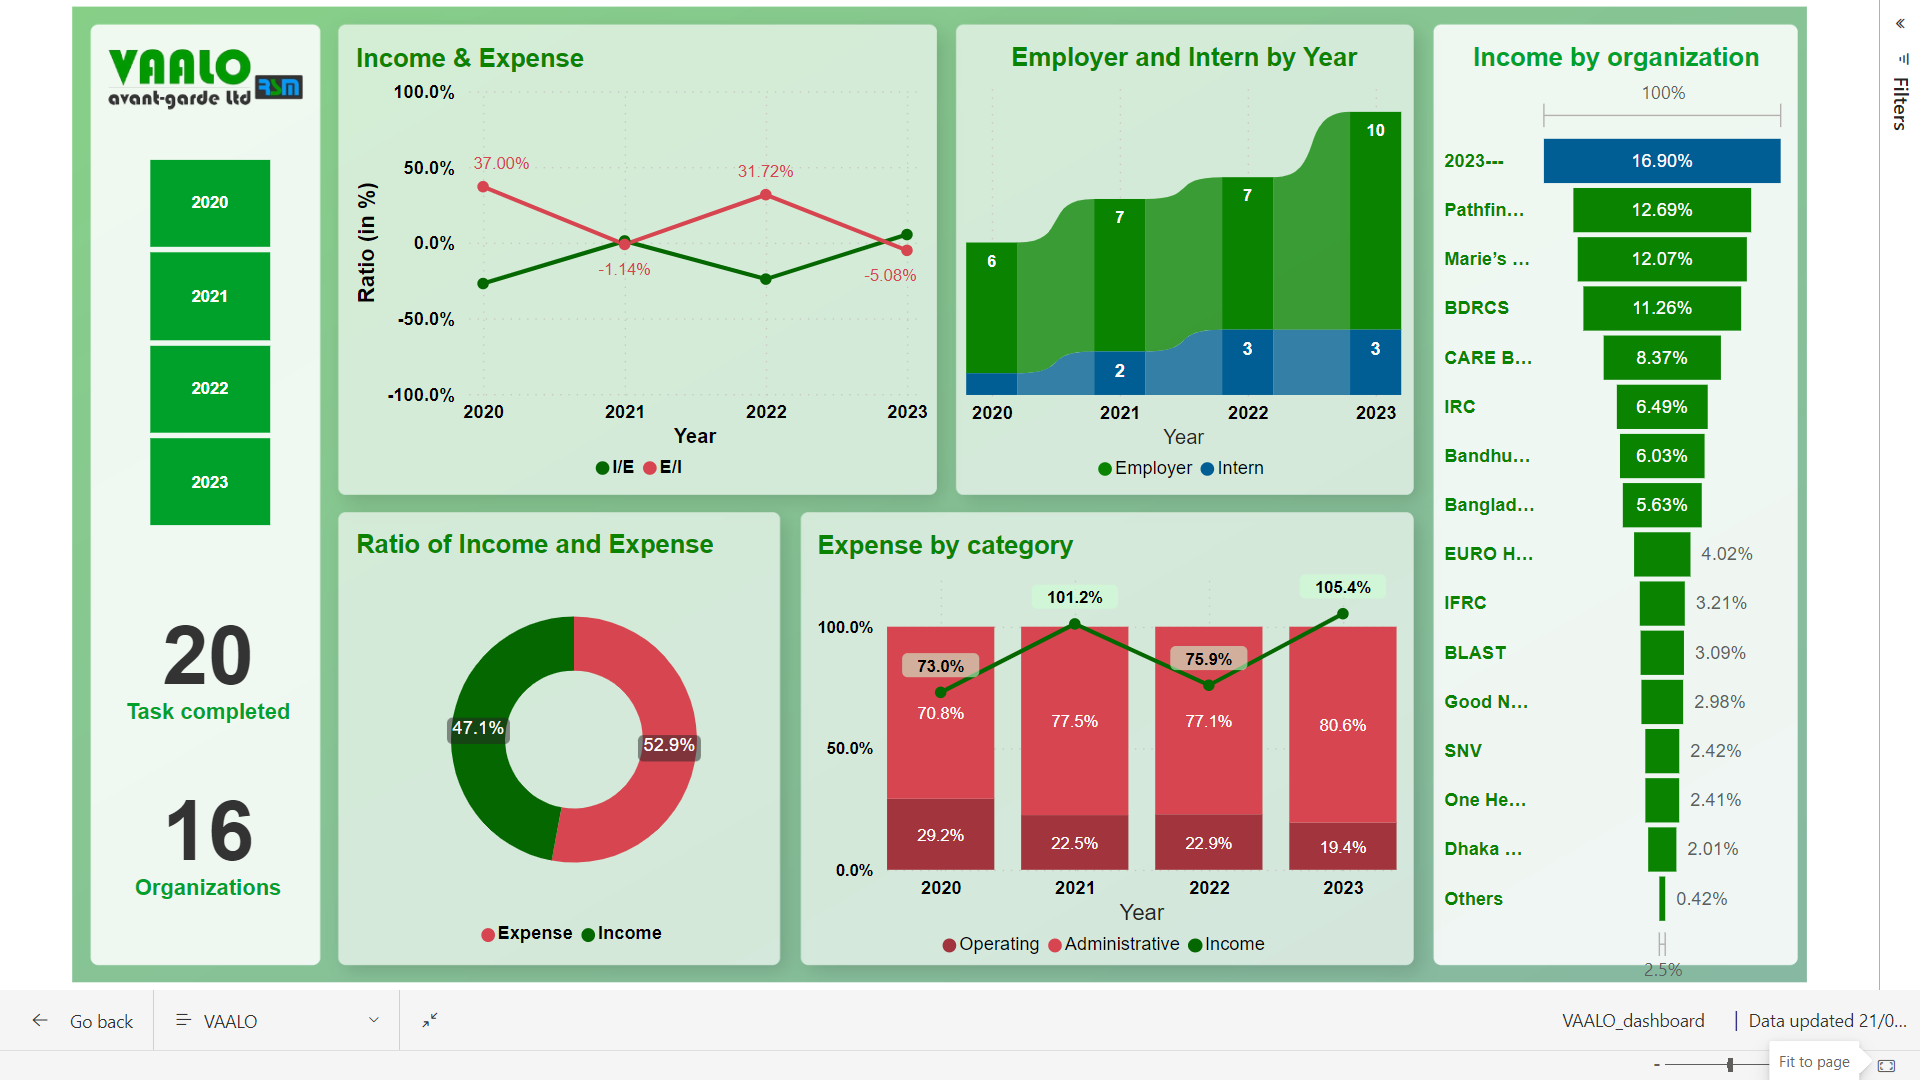

The page's visual inventory and layout, read from the dashboard file:
{"tool":"powerbi","page":{"name":"VAALO","canvas":[1280,720],"ordinal":0},"visuals":[{"type":"image","box":[0,0,1280.9,719.1],"z":500},{"type":"lineChart","title":"Income & Expense","fields":{"Category":["Expense.Year.Variation.Date Hierarchy.Year"],"Y":["Sum(Expense.I/E Ratio)","Sum(Expense.E/I Ratio)"]},"box":[210.6,31.9,425.5,327.7],"z":1000},{"type":"funnel","title":"Income by organization","fields":{"Category":["Assignment.Organization"],"Y":["Sum(Assignment.Income)"]},"box":[1003,31.3,259.7,688.1],"z":2000},{"type":"lineStackedColumnComboChart","title":"Expense by category","fields":{"Category":["Expense.Year.Variation.Date Hierarchy.Year"],"Y2":["Sum(Expense.I/E)"],"Y":["Sum(Expense.O/E ratio)","Sum(Expense.A/E ratio)"]},"box":[546.7,382.2,431.1,326.7],"z":3000},{"type":"donutChart","title":"Ratio of Income and Expense","fields":{"Y":["Sum(Expense.Expense)","Sum(Expense.Yearly Income)"]},"box":[210.6,385.1,327.7,308.5],"z":4000},{"type":"slicer","fields":{"Values":["Expense.Year.Variation.Date Hierarchy.Year"]},"box":[40.3,109,137.3,276.1],"z":5000},{"type":"card","fields":{"Values":["CountNonNull(Assignment.Name)"]},"box":[26.7,413.3,164.4,133.3],"z":6000},{"type":"card","fields":{"Values":["Count(Assignment.Organization)"]},"box":[26.7,546.7,164.4,124.4],"z":7000},{"type":"ribbonChart","fields":{"Category":["Employer.Year.Variation.Date Hierarchy.Year"],"Y":["Sum(Employer.Employer)","Sum(Employer.Intern)"]},"box":[636.2,31,363.8,329.3],"z":8000}]}

Visuals, with their boxes on the page's 1280x720 design canvas (x1, y1, x2, y2). These are canvas units, not pixel positions in the 1920x1080 screenshot, which may show the page scaled, cropped or inside an application window:
image: {"left": 0, "top": 0, "right": 1281, "bottom": 719}
"Income & Expense" lineChart: {"left": 211, "top": 32, "right": 636, "bottom": 360}
"Income by organization" funnel: {"left": 1003, "top": 31, "right": 1263, "bottom": 719}
"Expense by category" lineStackedColumnComboChart: {"left": 547, "top": 382, "right": 978, "bottom": 709}
"Ratio of Income and Expense" donutChart: {"left": 211, "top": 385, "right": 538, "bottom": 694}
slicer - Expense.Year.Variation.Date Hierarchy.Year: {"left": 40, "top": 109, "right": 178, "bottom": 385}
card - CountNonNull(Assignment.Name): {"left": 27, "top": 413, "right": 191, "bottom": 547}
card - Count(Assignment.Organization): {"left": 27, "top": 547, "right": 191, "bottom": 671}
ribbonChart - Employer.Year.Variation.Date Hierarchy.Year x Sum(Employer.Employer): {"left": 636, "top": 31, "right": 1000, "bottom": 360}
